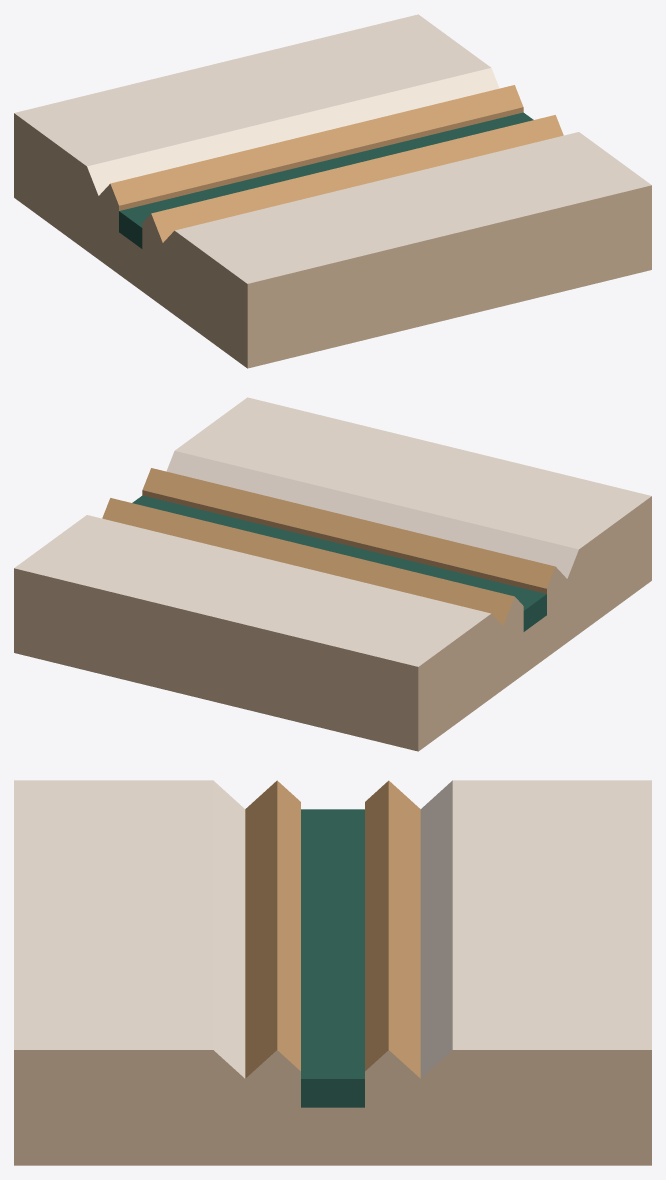
Rendered from Puzzle_Floor_Conduit_Standard_Straight.fbx.
3 views of the same model, one above another, from view 1: azimuth 30°, elevation 25°; view 2: azimuth 150°, elevation 25°; view 3: azimuth 270°, elevation 25° (orthographic). The views are drawn at different scales.
Visible parts, largest first — view 1: Sandstone_Floor.Sandstone_Floor, Sandstone_Trim.object2, Sandstone_5, object1; view 2: Sandstone_Floor.Sandstone_Floor, Sandstone_Trim.object2, Sandstone_5, object1; view 3: Sandstone_Floor.Sandstone_Floor, Sandstone_Trim.object2, Sandstone_5, object1.
Boxes of the visible parts, left/top/right/bottom form: Sandstone_Floor.Sandstone_Floor: left=14, top=14, right=651, bottom=283; Sandstone_Trim.object2: left=14, top=113, right=651, bottom=368; Sandstone_5: left=110, top=85, right=563, bottom=242; object1: left=119, top=112, right=533, bottom=248; Sandstone_Floor.Sandstone_Floor: left=14, top=397, right=651, bottom=666; Sandstone_Trim.object2: left=14, top=496, right=651, bottom=751; Sandstone_5: left=102, top=468, right=555, bottom=625; object1: left=132, top=495, right=546, bottom=631; Sandstone_Floor.Sandstone_Floor: left=14, top=780, right=651, bottom=1078; Sandstone_Trim.object2: left=14, top=1050, right=651, bottom=1165; Sandstone_5: left=245, top=780, right=420, bottom=1078; object1: left=301, top=809, right=364, bottom=1107.
Bounding box in the file's own units: 1 × 0.2 × 1.
